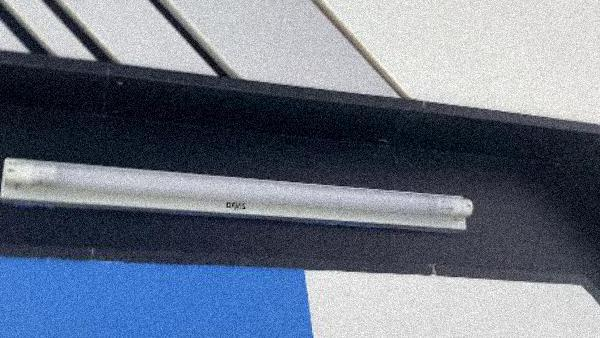light_off: (0, 138, 485, 250)
